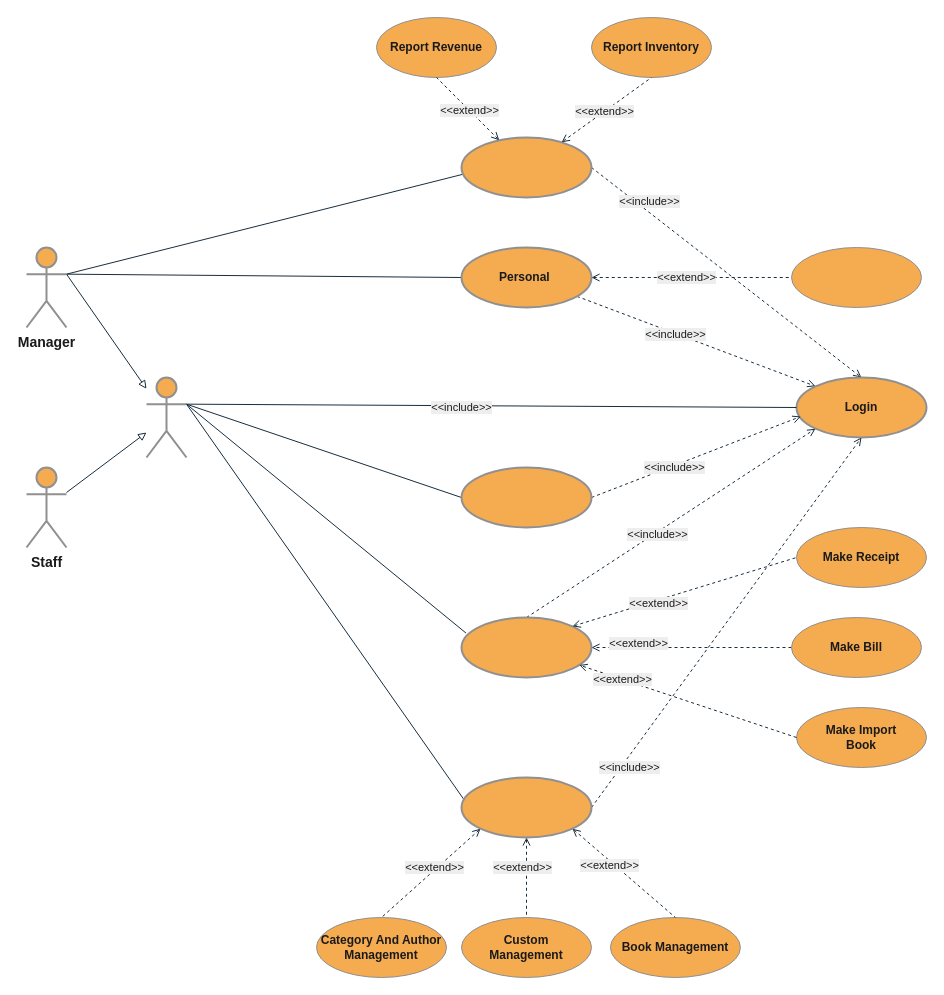
Some shapes in this 944 by 995 pixel diagram are drawn without their labels. The shapes that lost their labels are listed below. From the top down, each one's centre as x and y in pixels, then its label:
At (x=526, y=167): "Make statistics".
At (x=856, y=277): "Staff Management".
At (x=166, y=417): "User".
At (x=526, y=497): "Logout".
At (x=526, y=647): "Sales Management".
At (x=526, y=807): "Data Management".
